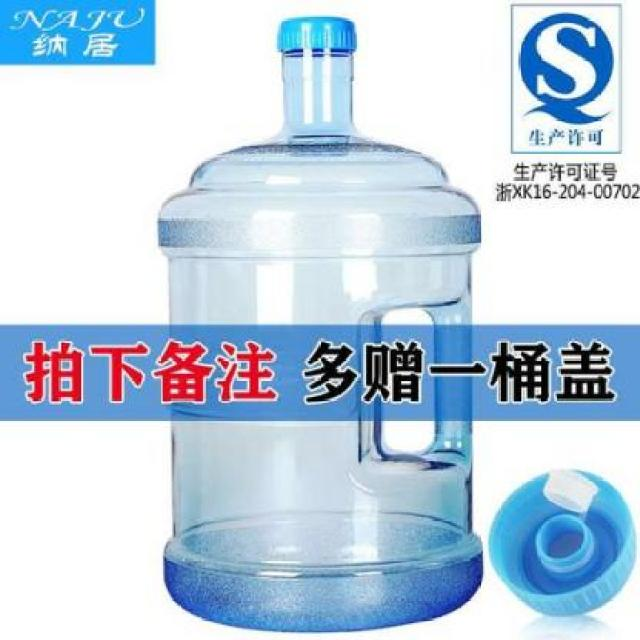coolerbottle: (154, 11, 492, 640)
